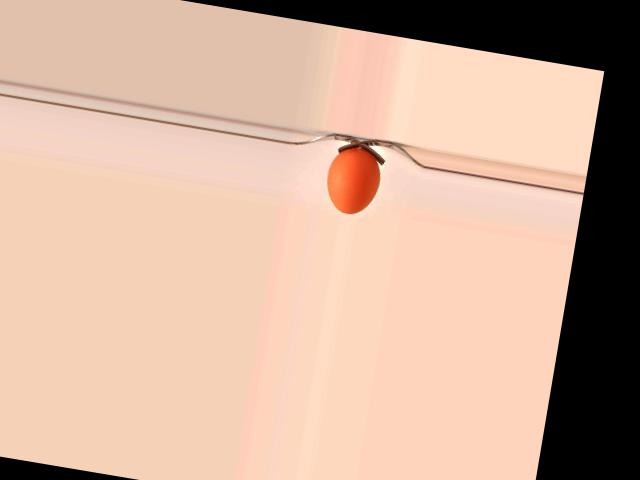egg: (321, 143, 383, 217)
